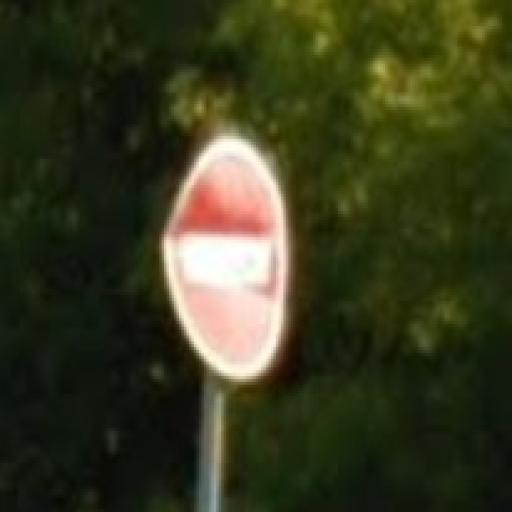traffic_sign: (163, 137, 290, 386)
